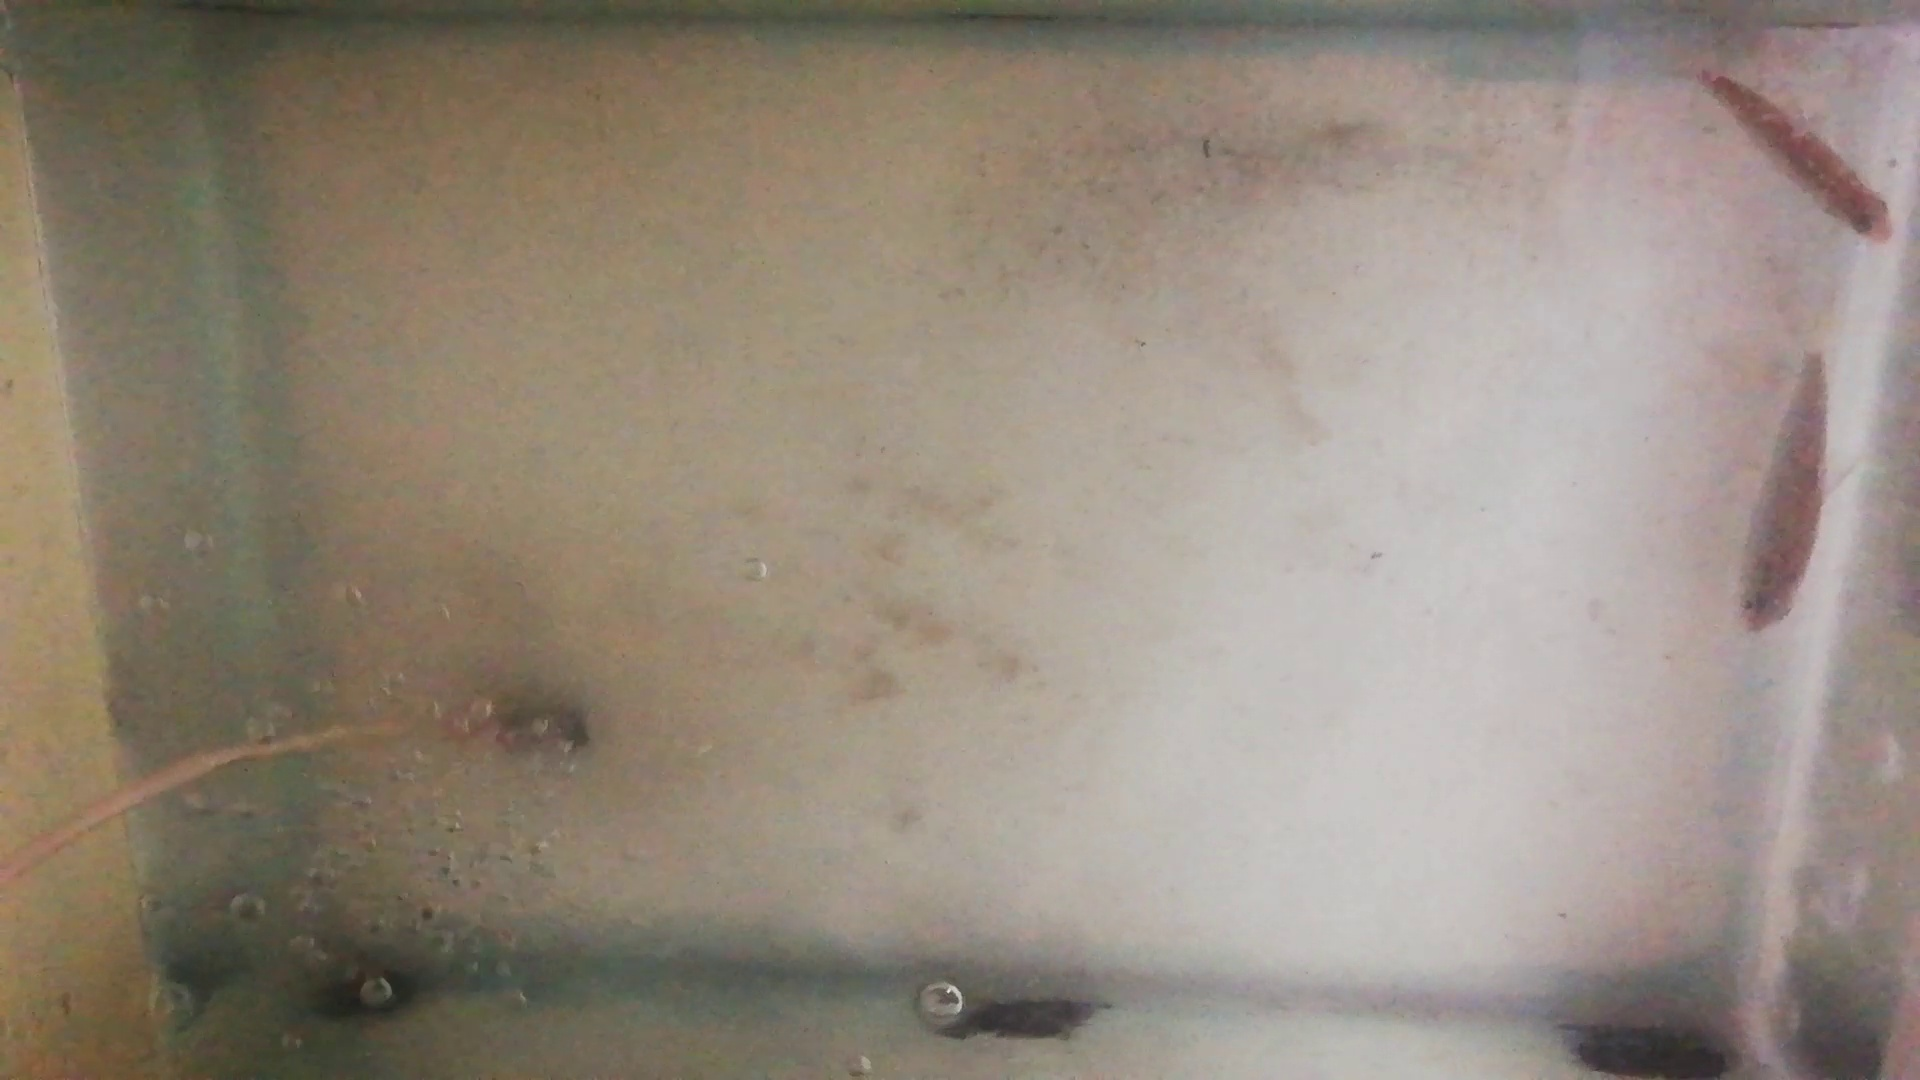fish: (1695, 65, 1895, 247), (1734, 352, 1834, 634)
